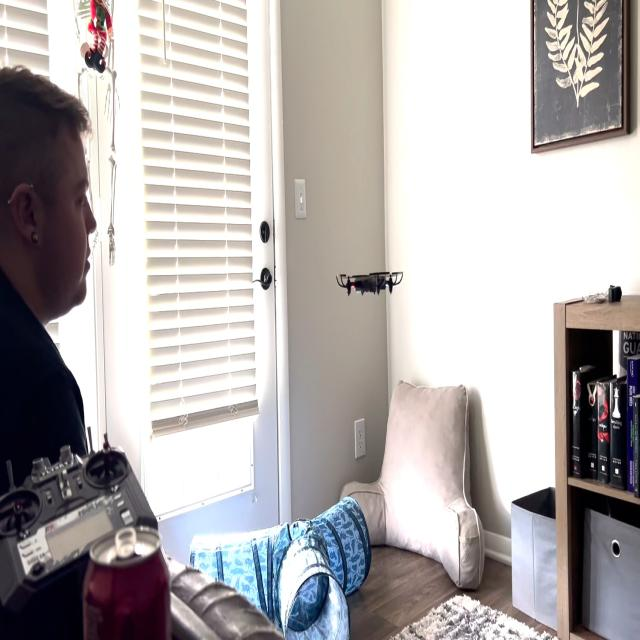drone: (330, 252, 410, 302)
